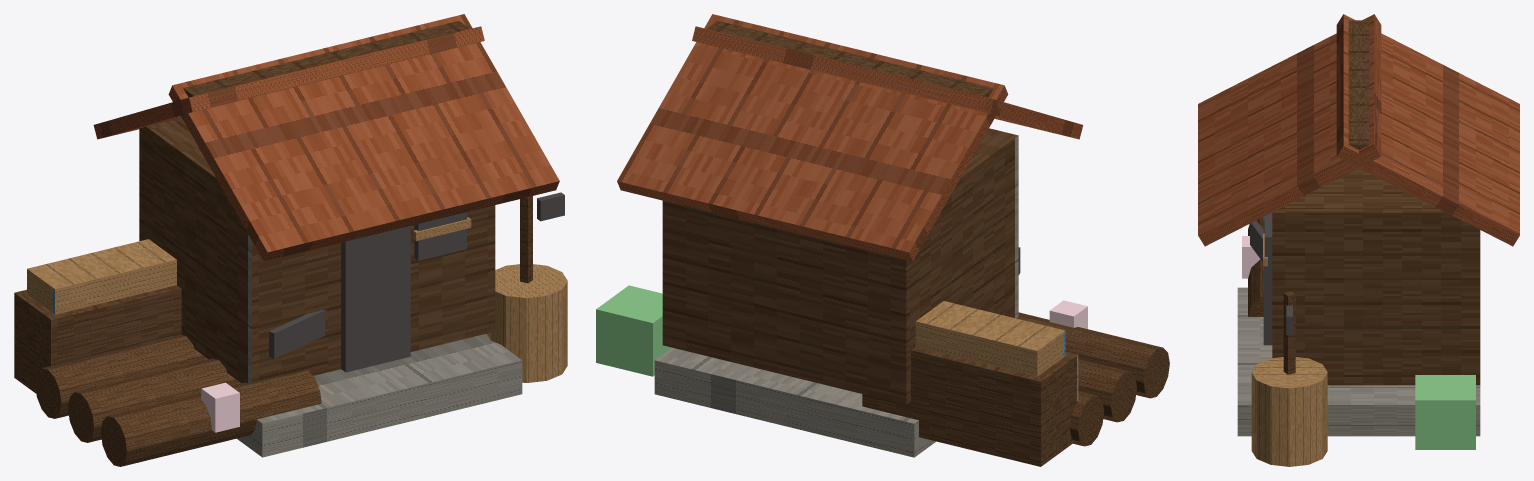
Rendered from lumberjack.glb.
3 renders of one model, left to right at view 1: azimuth 30°, elevation 25°; view 2: azimuth 150°, elevation 25°; view 3: azimuth 270°, elevation 25°, orthographic. The views are drawn at different scales.
Visible parts, largest first — view 1: Dach-.001, Wand.001, Sockel.002, Holzstapel, Tuer.001, Stamm0, Stumpf, StammOben, Dach+.001, Stamm2, Stamm1, First.001 (+6 smaller); view 2: Dach+.001, Wand.001, Holzstapel, Sockel.002, StammOben, Dach-.001, Gebuesch1105, Stamm0, First.001, Stamm1, Stamm2, Blume; view 3: Wand.001, Dach+.001, Dach-.001, Stumpf, Sockel.002, Gebuesch1105, First.001, Stamm0, Axtstiel, Tuer.001, Fenster, Blume (+1 smaller).
Boxes of the visible parts, left/top/right/bottom form: Dach-.001: left=168, top=14, right=559, bottom=261; Wand.001: left=139, top=118, right=495, bottom=383; Sockel.002: left=237, top=334, right=522, bottom=457; Holzstapel: left=14, top=285, right=181, bottom=393; Tuer.001: left=341, top=226, right=410, bottom=372; Stamm0: left=100, top=370, right=321, bottom=466; Stumpf: left=486, top=264, right=567, bottom=382; StammOben: left=27, top=239, right=176, bottom=314; Dach+.001: left=93, top=26, right=484, bottom=139; Stamm2: left=35, top=335, right=208, bottom=418; Stamm1: left=68, top=358, right=241, bottom=442; First.001: left=183, top=21, right=469, bottom=97; Dach+.001: left=617, top=14, right=1008, bottom=261; Wand.001: left=662, top=128, right=1018, bottom=404; Holzstapel: left=862, top=347, right=1078, bottom=466; Sockel.002: left=654, top=347, right=935, bottom=457; StammOben: left=915, top=301, right=1065, bottom=376; Dach-.001: left=692, top=26, right=1083, bottom=139; Gebuesch1105: left=596, top=285, right=671, bottom=376; Stamm0: left=1016, top=312, right=1169, bottom=398; First.001: left=707, top=21, right=993, bottom=97; Stamm1: left=1078, top=359, right=1136, bottom=422; Stamm2: left=1070, top=391, right=1104, bottom=446; Blume: left=1049, top=300, right=1087, bottom=328; Wand.001: left=1272, top=168, right=1480, bottom=385; Dach+.001: left=1336, top=14, right=1519, bottom=246; Dach-.001: left=1198, top=14, right=1381, bottom=246; Stumpf: left=1251, top=357, right=1327, bottom=466; Sockel.002: left=1237, top=287, right=1480, bottom=436; Gebuesch1105: left=1415, top=375, right=1475, bottom=449; First.001: left=1348, top=20, right=1369, bottom=149; Stamm0: left=1248, top=217, right=1263, bottom=316; Axtstiel: left=1283, top=291, right=1295, bottom=374; Tuer.001: left=1263, top=212, right=1272, bottom=345; Fenster: left=1264, top=215, right=1272, bottom=284; Blume: left=1242, top=236, right=1260, bottom=278.
Bounding box in the file's own units: 2.82 × 1.9 × 1.86.
Materials: 7 (4 with a texture image).
